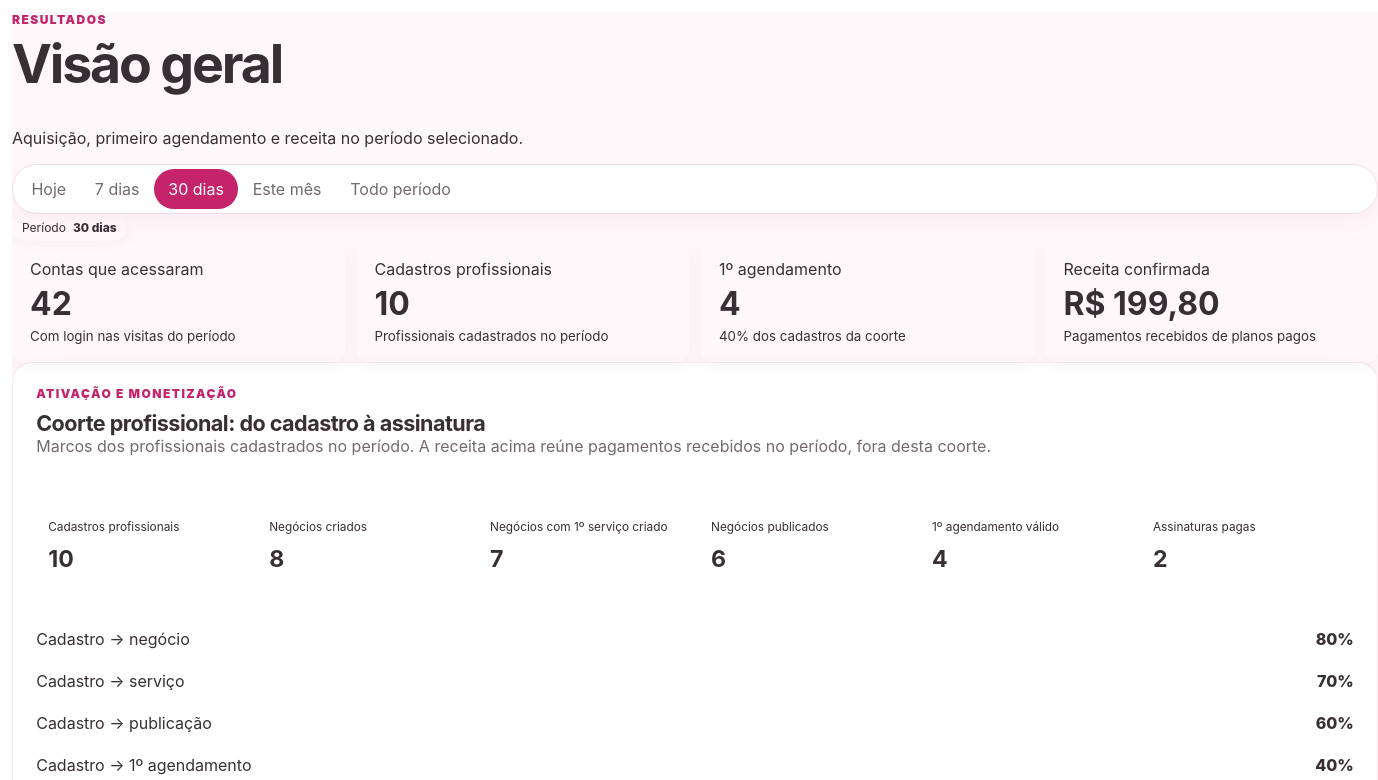
Test: visão geral administrativa v2 › persiste o período na URL e consulta novamente a visão geral
Expected: the heading "Visão geral" is shown, left=12, top=31, right=282, bottom=96
Click the button "7 dias".
click(117, 189)  # box left=80, top=169, right=154, bottom=209
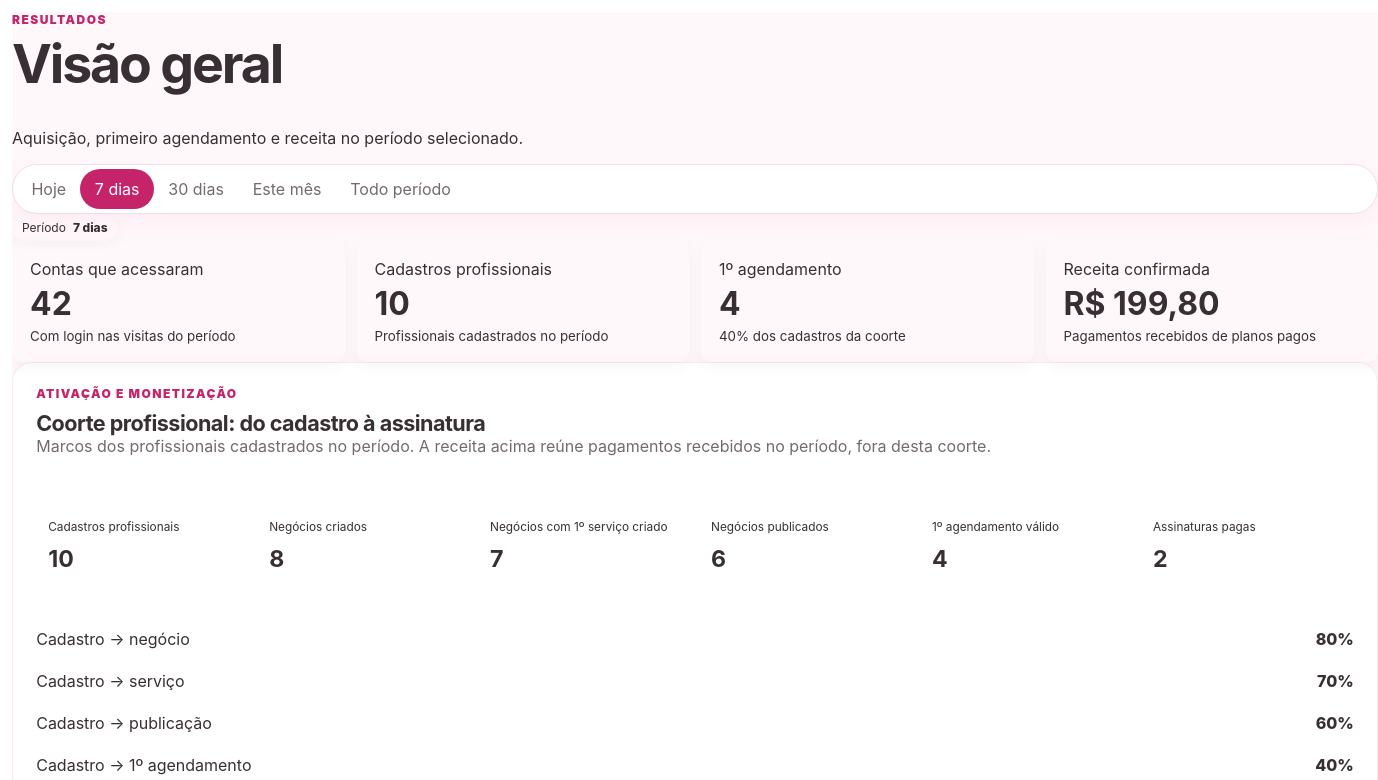
Expected: the element named "Recorte temporal" shows "7 dias", left=73, top=220, right=108, bottom=235
